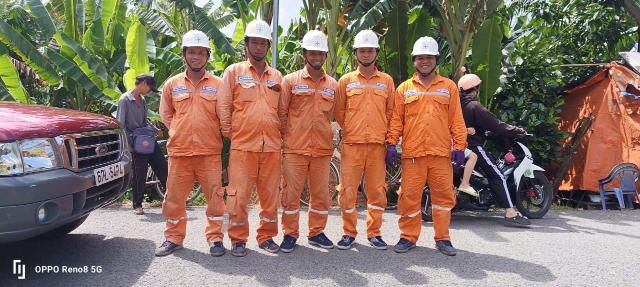helmet: (234, 9, 285, 45), (403, 29, 447, 57), (347, 24, 387, 53), (177, 24, 218, 48), (299, 29, 335, 54)
shoes: (145, 235, 180, 259), (425, 234, 455, 261), (389, 229, 416, 258), (307, 229, 335, 255), (277, 228, 302, 255), (224, 234, 247, 259), (365, 228, 388, 252), (254, 234, 280, 255), (202, 239, 228, 259), (335, 229, 358, 251)
